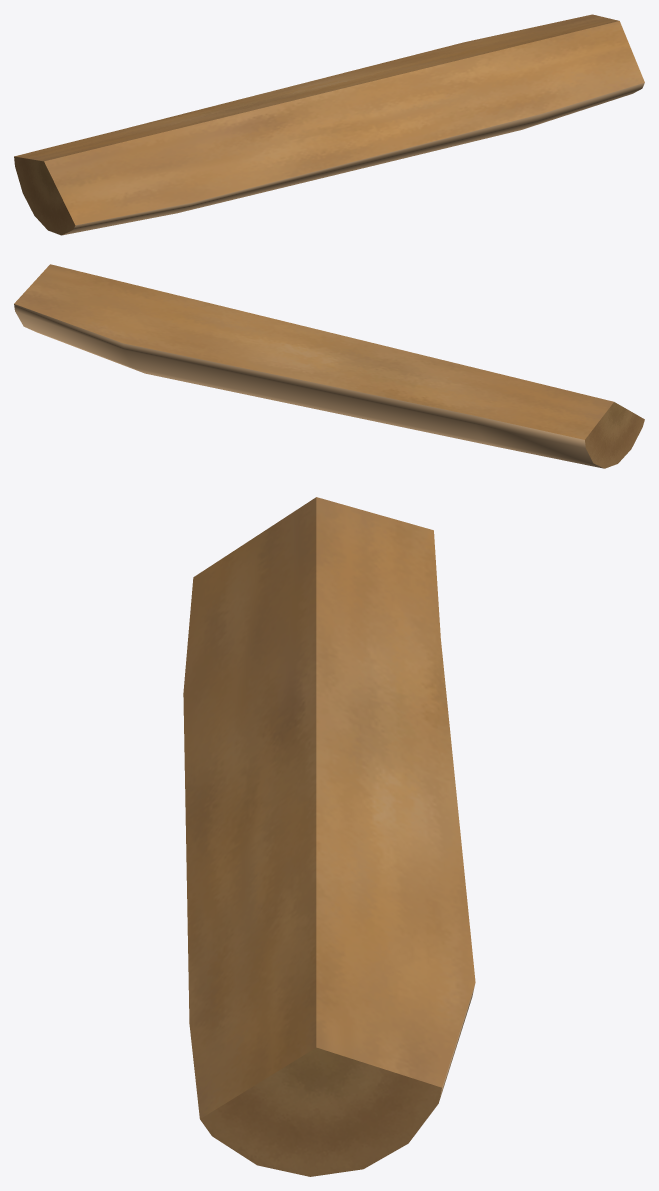
File: Timber_Cut_4.fbx
3 views of the same model, one above another, from view 1: azimuth 30°, elevation 25°; view 2: azimuth 150°, elevation 25°; view 3: azimuth 270°, elevation 25° (orthographic). The views are drawn at different scales.
Visible parts, largest first — view 1: Cylinder.083; view 2: Cylinder.083; view 3: Cylinder.083.
Boxes of the visible parts, x1=… form: Cylinder.083: x1=14, y1=14, x2=644, y2=235; Cylinder.083: x1=14, y1=264, x2=644, y2=468; Cylinder.083: x1=183, y1=497, x2=475, y2=1176.
Bounding box in the file's own units: 91.89 × 11.62 × 20.44.
